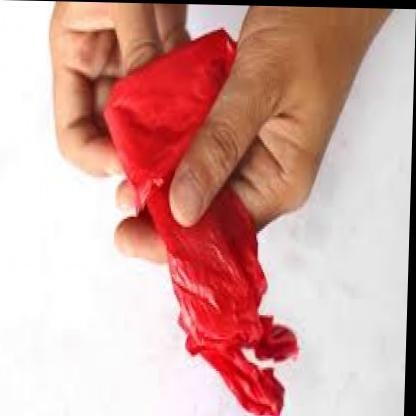trash: (106, 30, 297, 415)
